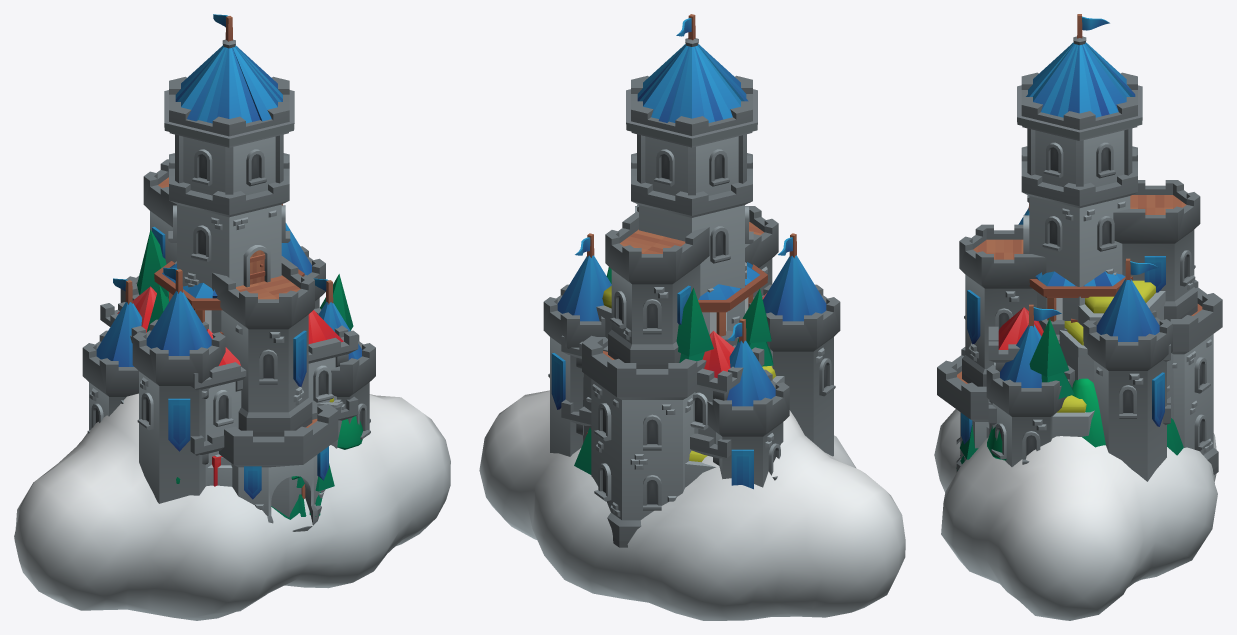
File: field.glb
3 renders of one model, left to right at view 1: azimuth 30°, elevation 25°; view 2: azimuth 150°, elevation 25°; view 3: azimuth 270°, elevation 25°, orthographic. The views are drawn at different scales.
Parts seen in each view (by area): view 1: building_castle_blue, cloud_big, building_barracks_red, mountain_A_grass_trees, building_tower_A_top_blue, trees_B_large, mountain_B_grass; view 2: building_castle_blue, cloud_big, building_barracks_red, mountain_A_grass_trees, building_tower_A_top_blue, mountain_B_grass; view 3: building_castle_blue, cloud_big, mountain_B_grass, building_tower_A_top_blue, building_barracks_red, mountain_A_grass_trees, trees_B_medium, trees_A_large.
Boxes of the visible parts, x1,y1,x2,y2 form: building_castle_blue: [82, 14, 375, 531]; cloud_big: [14, 393, 450, 620]; building_barracks_red: [100, 286, 358, 486]; mountain_A_grass_trees: [137, 229, 353, 465]; building_tower_A_top_blue: [154, 261, 304, 334]; trees_B_large: [176, 416, 362, 519]; mountain_B_grass: [271, 476, 301, 518]; building_castle_blue: [543, 14, 840, 547]; cloud_big: [479, 390, 905, 620]; building_barracks_red: [561, 293, 766, 465]; mountain_A_grass_trees: [583, 267, 784, 488]; building_tower_A_top_blue: [698, 262, 767, 336]; mountain_B_grass: [583, 286, 715, 487]; building_castle_blue: [937, 14, 1222, 481]; cloud_big: [934, 409, 1217, 620]; mountain_B_grass: [1052, 280, 1173, 438]; building_tower_A_top_blue: [1029, 271, 1132, 322]; building_barracks_red: [988, 307, 1170, 424]; mountain_A_grass_trees: [989, 318, 1074, 434]; trees_B_medium: [1072, 378, 1105, 447]; trees_A_large: [956, 418, 1183, 470].
Size of the model in its own units: 3.61 by 4.89 by 2.28.
1 material, 1 textured.
